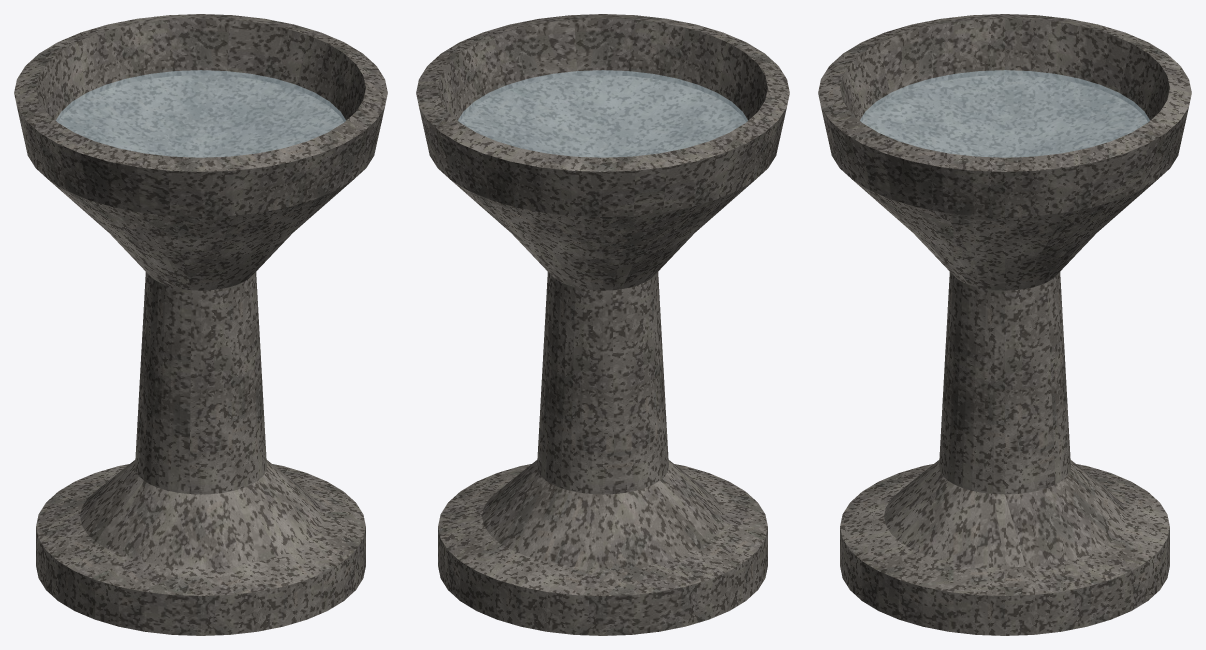
The model's file is pia_batismal.glb.
3 renders of one model, left to right at view 1: azimuth 30°, elevation 25°; view 2: azimuth 150°, elevation 25°; view 3: azimuth 270°, elevation 25°, orthographic.
Visible parts, largest first — view 1: pia_batismal_pedra, pia_batismal_agua; view 2: pia_batismal_pedra, pia_batismal_agua; view 3: pia_batismal_pedra, pia_batismal_agua.
Boxes of the visible parts, x1,y1,x2,y2 form: pia_batismal_pedra: [14, 14, 387, 635]; pia_batismal_agua: [56, 70, 345, 157]; pia_batismal_pedra: [416, 14, 789, 635]; pia_batismal_agua: [458, 70, 747, 157]; pia_batismal_pedra: [818, 14, 1191, 635]; pia_batismal_agua: [860, 70, 1149, 157].
Bounding box in the file's own units: 0.68 × 0.96 × 0.68.
2 materials, 1 textured.
